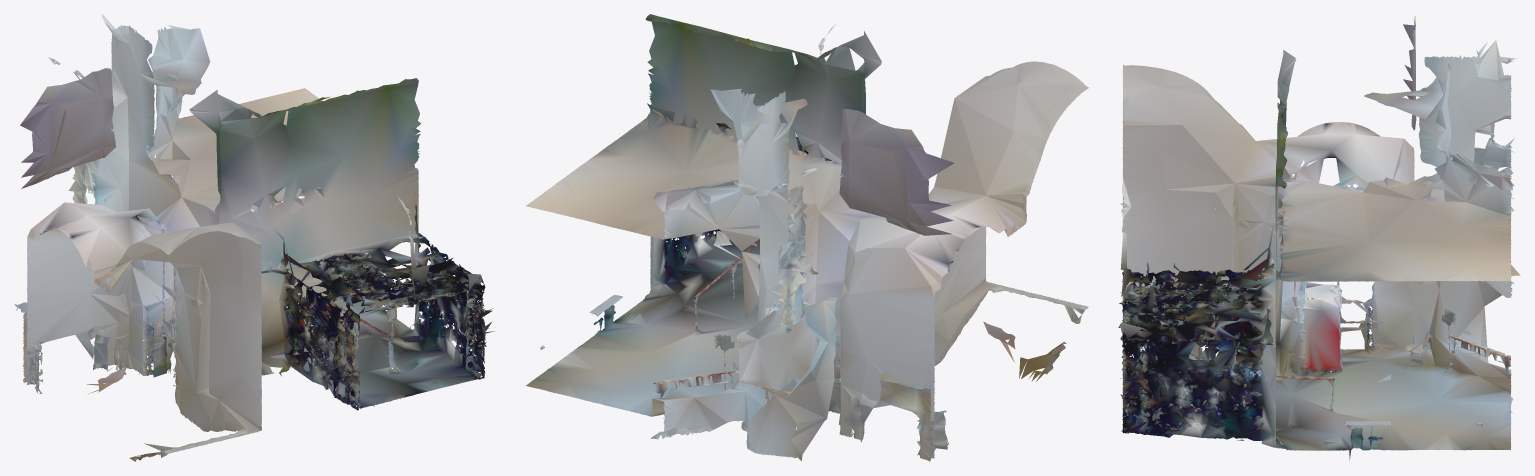
3 renders of one model, left to right at view 1: azimuth 30°, elevation 25°; view 2: azimuth 150°, elevation 25°; view 3: azimuth 270°, elevation 25°, orthographic. The views are drawn at different scales.
Size of the model in its own units: 10.66 by 9.41 by 10.38.
